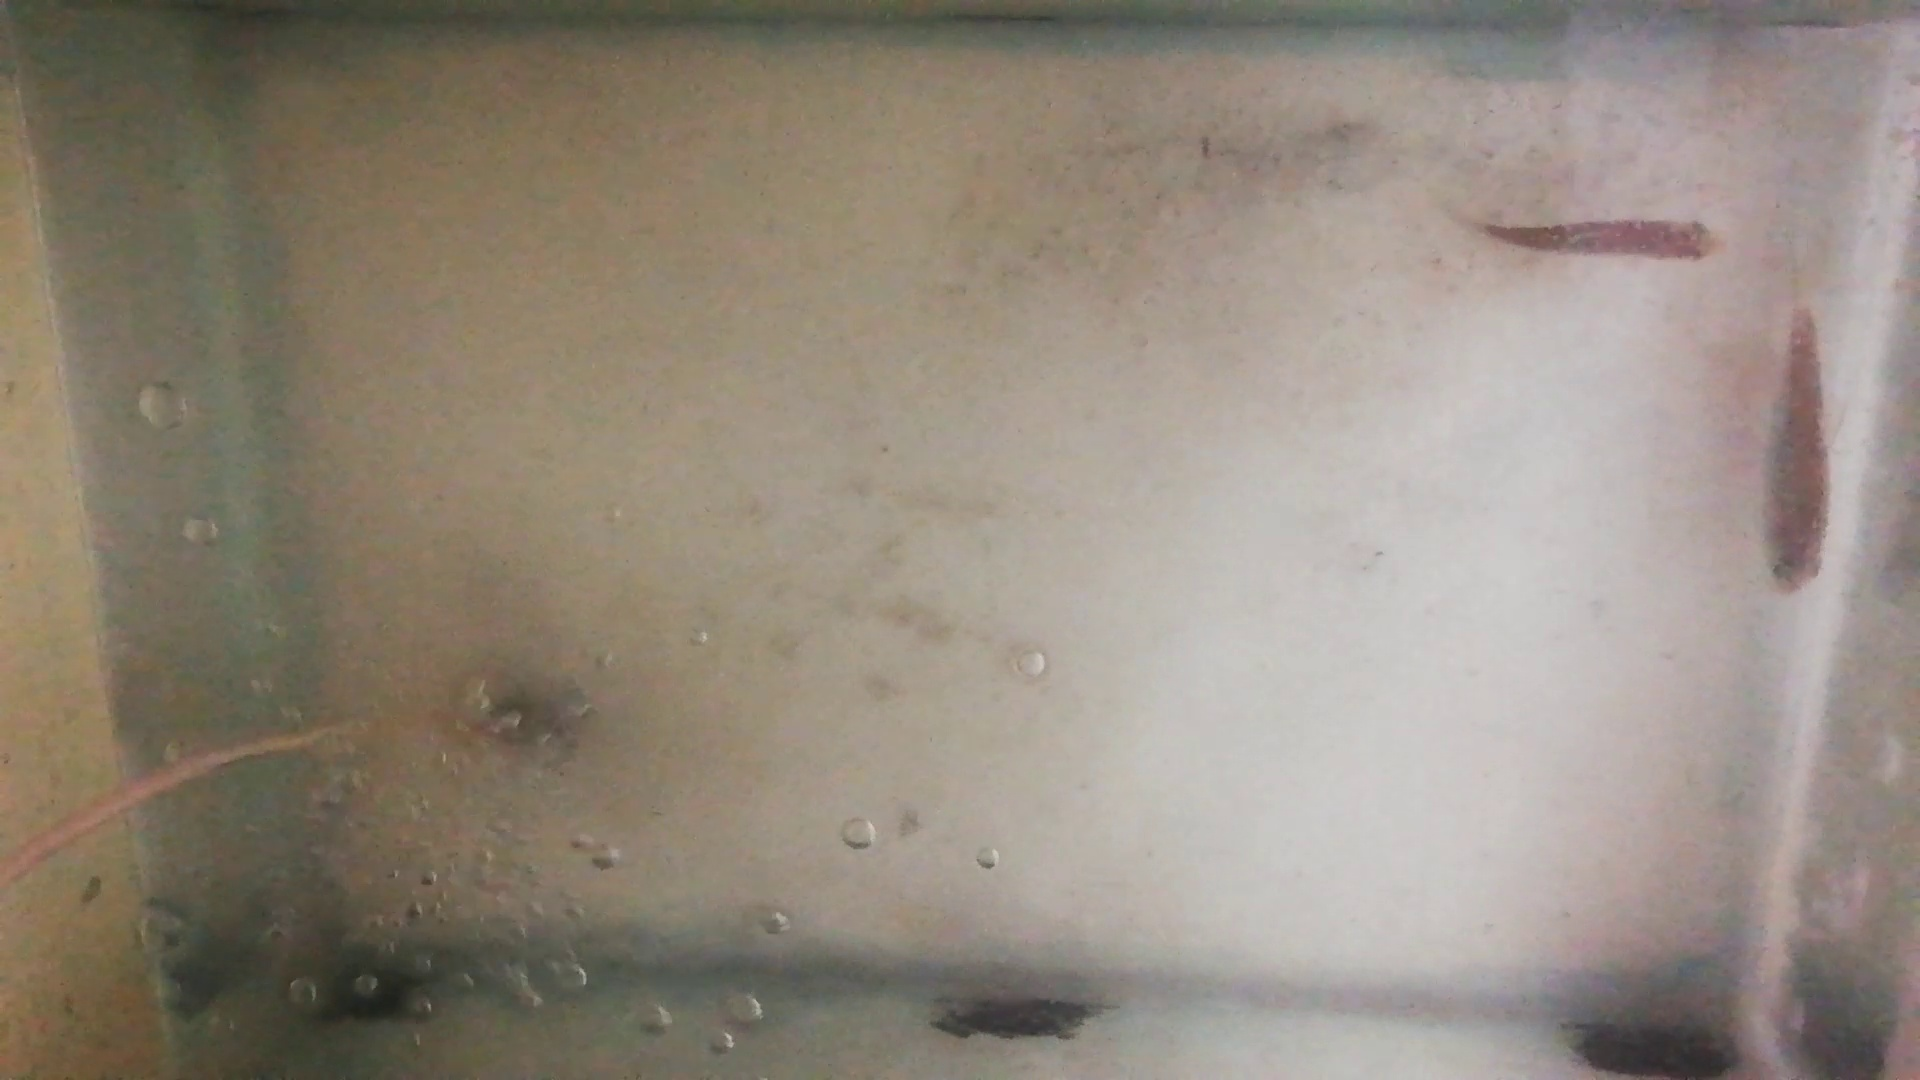fish: (1756, 305, 1834, 593), (1478, 216, 1727, 262)
